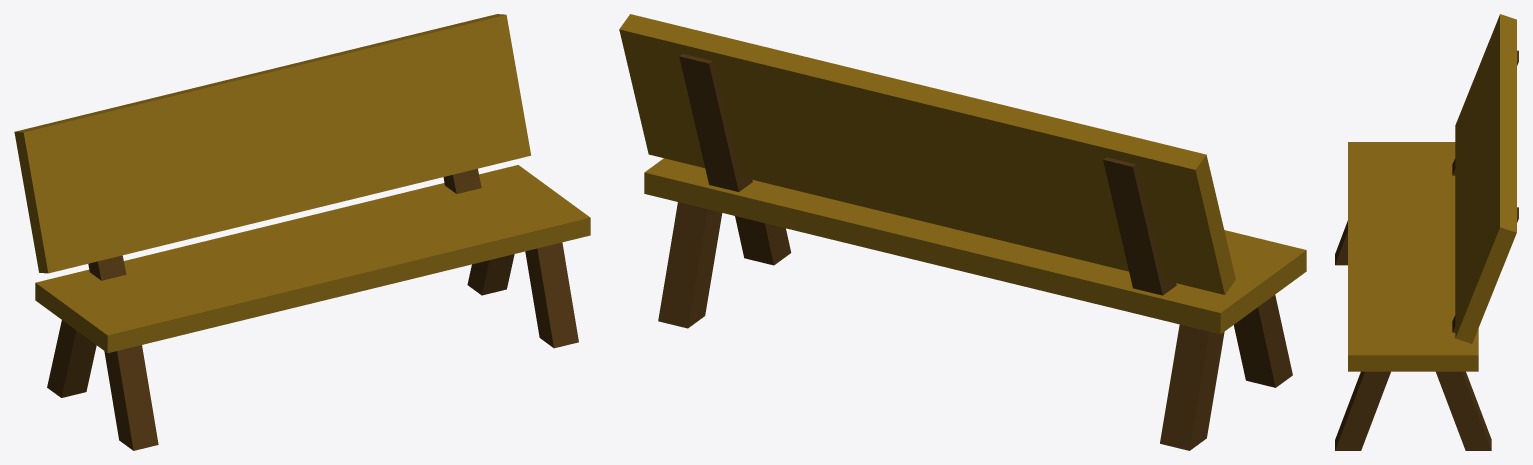
File: bench.dae
The picture shows the model from 3 angles, left to right: view 1: azimuth 30°, elevation 25°; view 2: azimuth 150°, elevation 25°; view 3: azimuth 270°, elevation 25°; orthographic projection. The views are drawn at different scales.
Parts seen in each view (by area): view 1: Bench; view 2: Bench; view 3: Bench.
Part boxes in pixels (x1,y1,x2,y2): Bench: (14,14,590,450); Bench: (619,14,1306,450); Bench: (1335,14,1518,450).
Size of the model in its own units: 2.15 by 0.7853 by 1.09.
